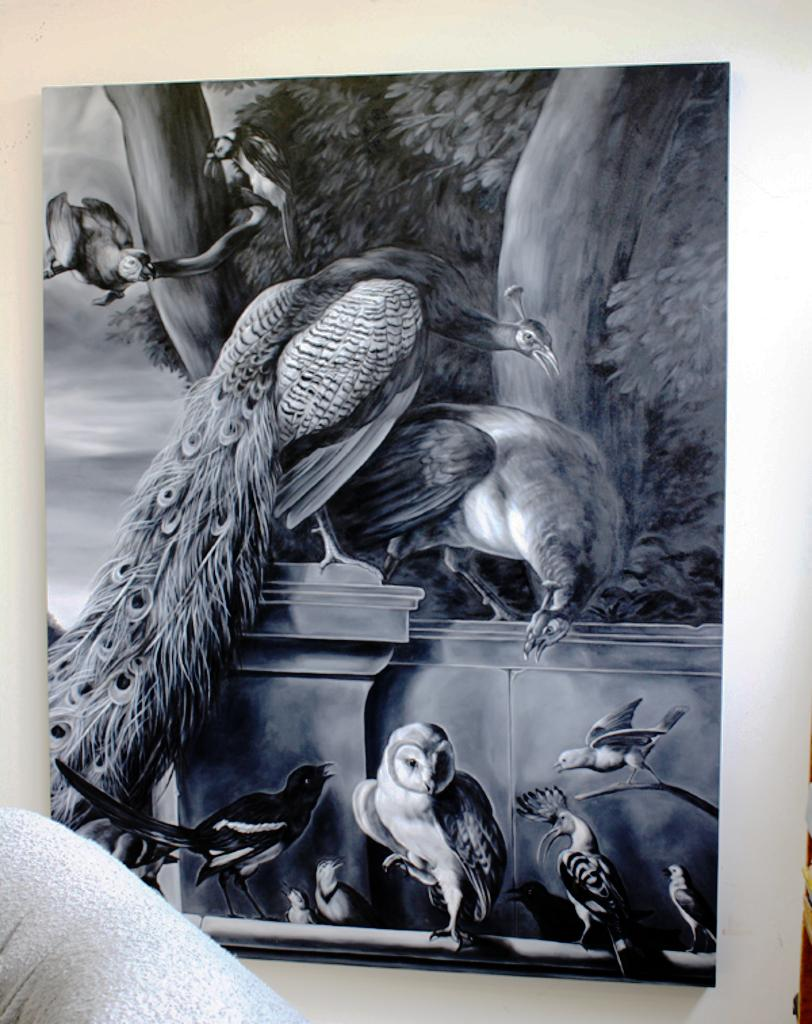Owl: (352, 725, 512, 960)
